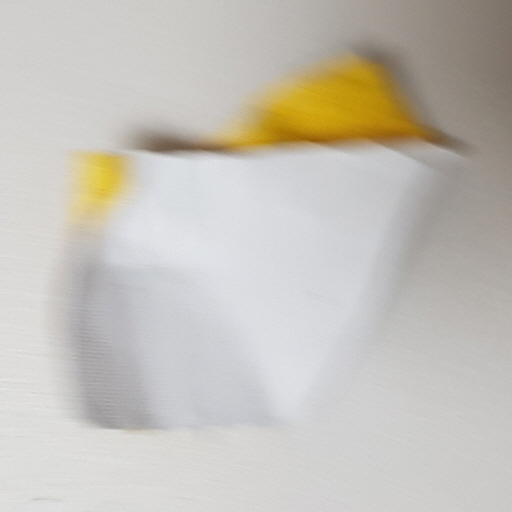Paper_3: (64, 43, 468, 451)
